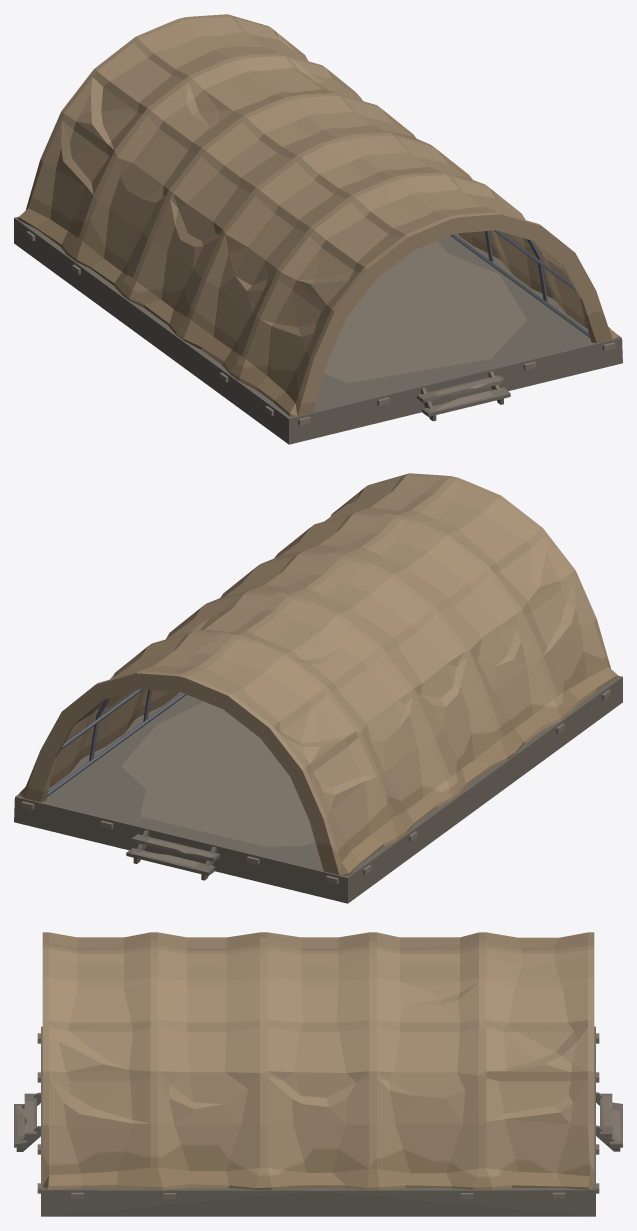
The model's file is SM_Bld_Tent_Open_01.glb.
The picture shows the model from 3 angles, top to bottom: view 1: azimuth 30°, elevation 25°; view 2: azimuth 150°, elevation 25°; view 3: azimuth 270°, elevation 25°; orthographic projection.
Visible parts, largest first — view 1: SM_Bld_Tent_Open_01; view 2: SM_Bld_Tent_Open_01; view 3: SM_Bld_Tent_Open_01.
Boxes of the visible parts, x1,y1,x2,y2 form: SM_Bld_Tent_Open_01: (14,14,622,444); SM_Bld_Tent_Open_01: (14,473,622,903); SM_Bld_Tent_Open_01: (14,932,622,1216).
Bounding box in the file's own units: 7.8 × 4.07 × 12.03.
Materials: 1 (1 with a texture image).
